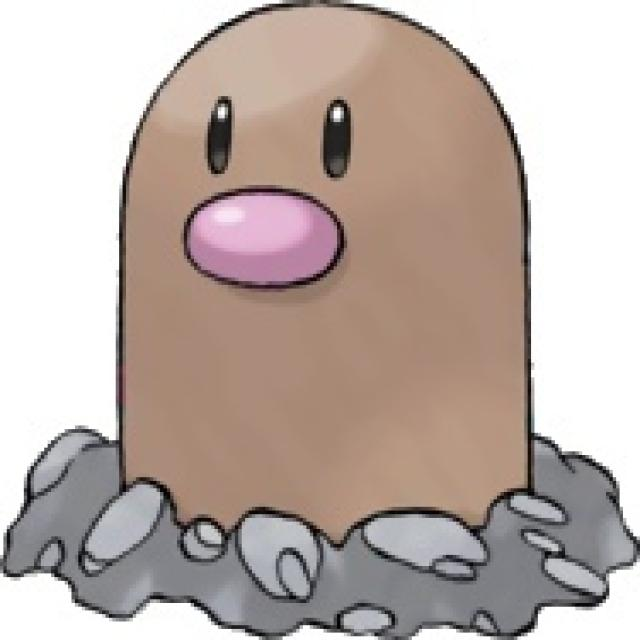Diglett: (108, 1, 550, 564)
